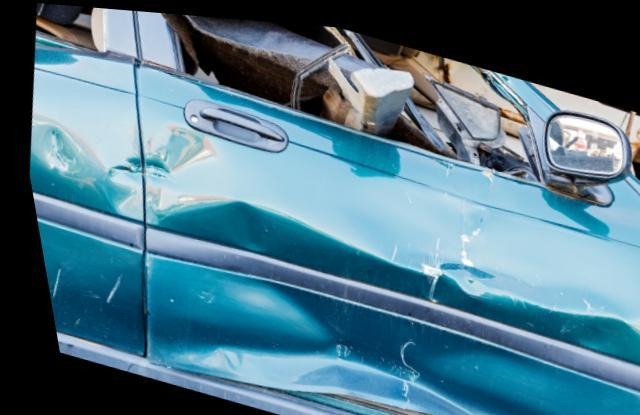dent: (139, 198, 640, 415), (26, 120, 138, 218), (141, 124, 210, 177)
scratch: (409, 209, 487, 287)
